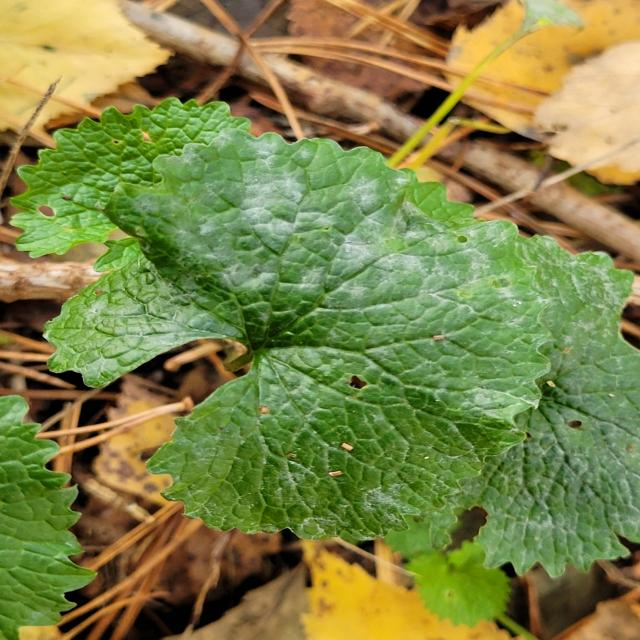powdery_mildew: (69, 129, 546, 538)
